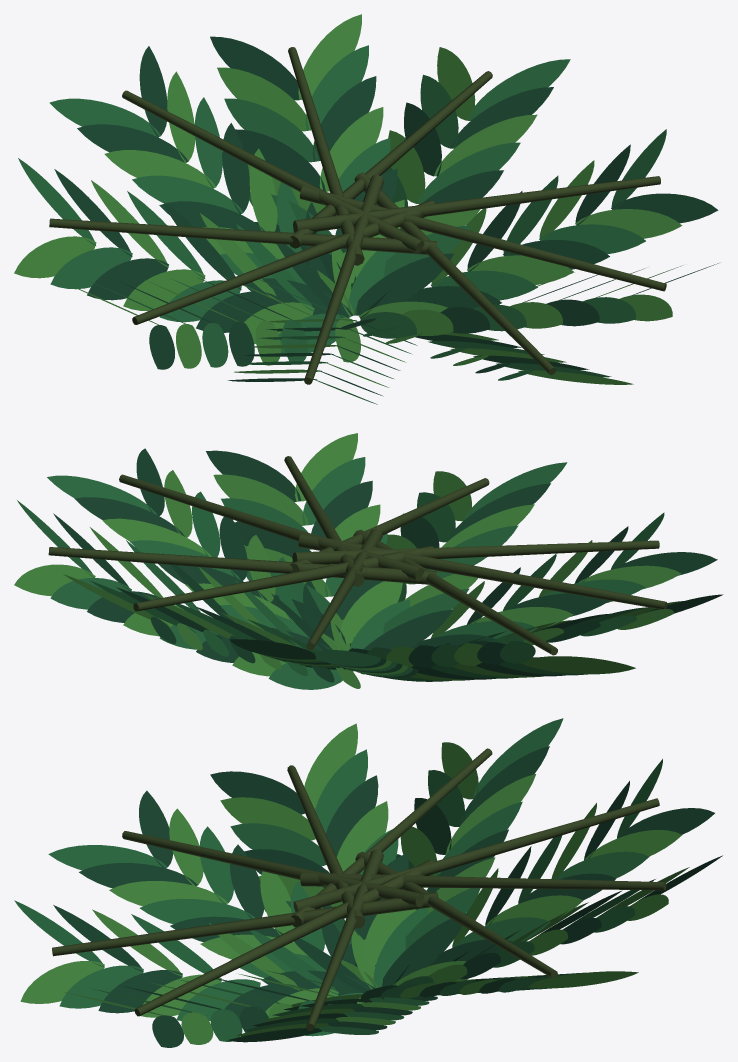
Rendered from fern.glb.
The picture shows the model from 3 angles, top to bottom: view 1: azimuth 30°, elevation 25°; view 2: azimuth 150°, elevation 25°; view 3: azimuth 270°, elevation 25°; orthographic projection.
Parts seen in each view (by area): view 1: rainforest-fern; view 2: rainforest-fern; view 3: rainforest-fern.
Part boxes in pixels (x1=…): rainforest-fern: x1=14, y1=14, x2=718, y2=404; rainforest-fern: x1=14, y1=433, x2=723, y2=689; rainforest-fern: x1=14, y1=718, x2=722, y2=1047.
Bounding box in the file's own units: 2.49 × 0.669 × 2.46.
